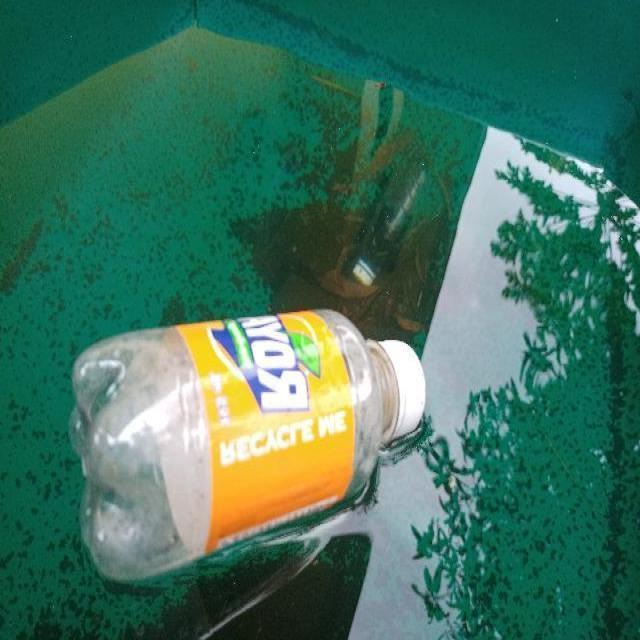Bottle: (61, 300, 434, 596)
